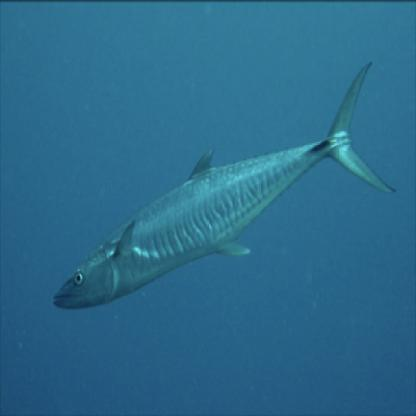tuna: (49, 56, 403, 318)
